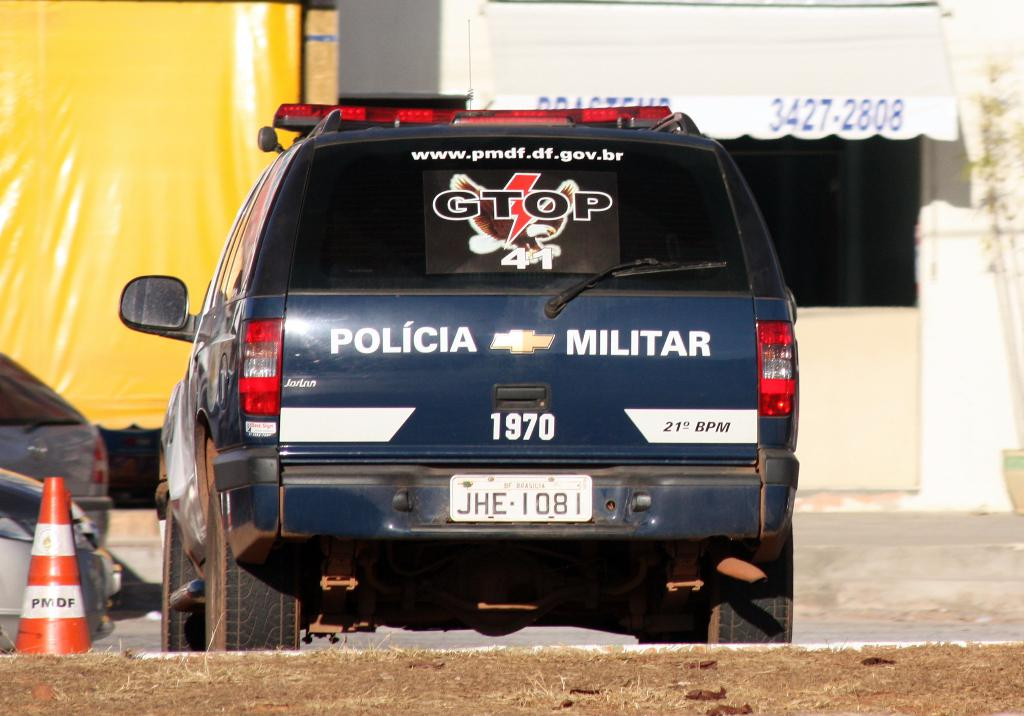Car: (117, 17, 796, 648), (0, 468, 122, 652), (0, 349, 112, 541)
